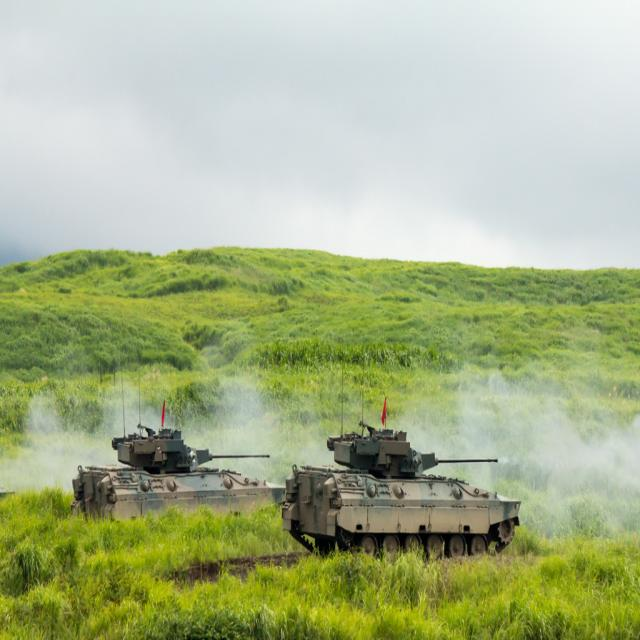tank: (278, 417, 522, 562), (70, 422, 284, 522)
